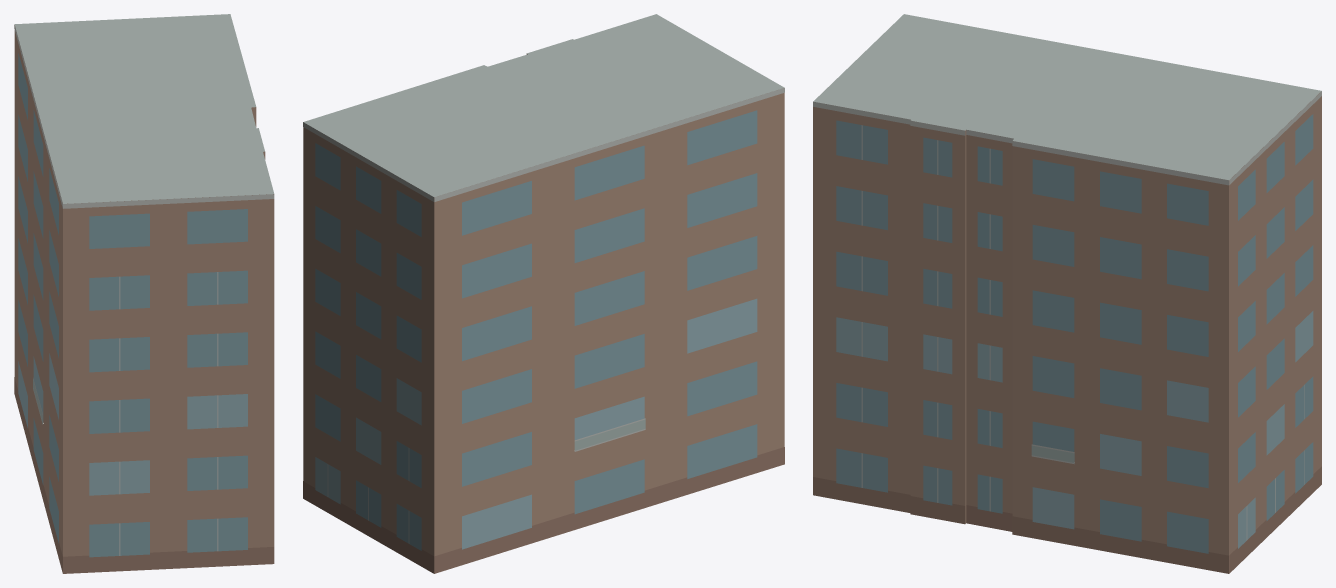
The model's file is survey-upis-32530246.glb.
The picture shows the model from 3 angles, left to right: view 1: azimuth 30°, elevation 25°; view 2: azimuth 150°, elevation 25°; view 3: azimuth 270°, elevation 25°; orthographic projection. The views are drawn at different scales.
Parts seen in each view (by area): view 1: survey-upis-32530246.tmp; view 2: survey-upis-32530246.tmp; view 3: survey-upis-32530246.tmp.
Boxes of the visible parts, x1,y1,x2,y2 form: survey-upis-32530246.tmp: (14, 14, 274, 573); survey-upis-32530246.tmp: (303, 14, 784, 573); survey-upis-32530246.tmp: (813, 14, 1321, 573).
Size of the model in its own units: 16.86 by 18.6 by 21.8.
